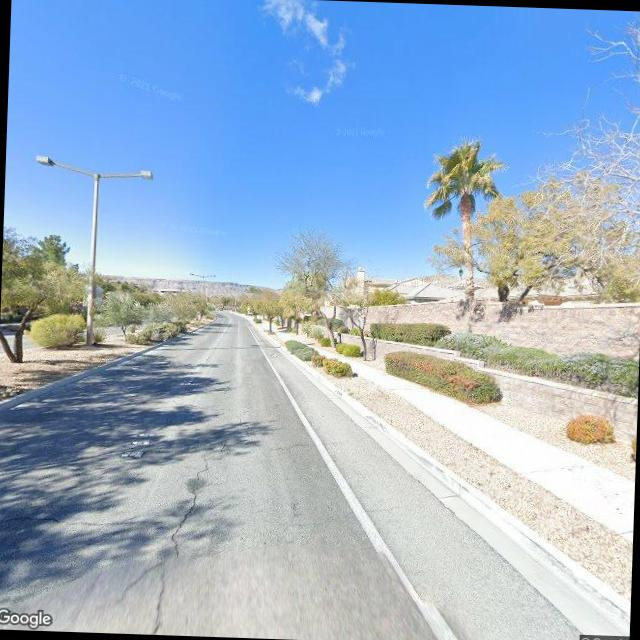crack: (167, 424, 236, 558), (0, 505, 155, 533)
